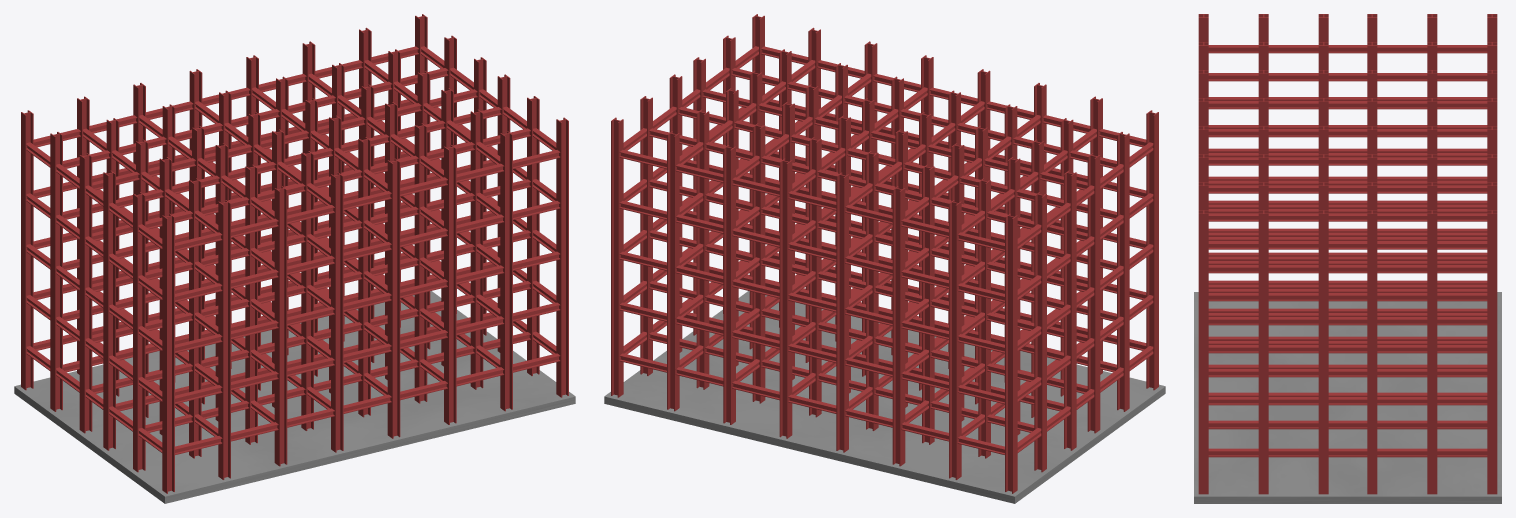
File: Construction building2.fbx
3 renders of one model, left to right at view 1: azimuth 30°, elevation 25°; view 2: azimuth 150°, elevation 25°; view 3: azimuth 270°, elevation 25°, orthographic.
Visible parts, largest first — view 1: Box017, Box016, Box015, Box014; view 2: Box017, Box016, Box015, Box014; view 3: Box015, Box014, Box017.
Boxes of the visible parts, <box> form: Box017: <box>21,14,568,493</box>; Box016: <box>33,46,560,454</box>; Box015: <box>26,46,556,452</box>; Box014: <box>14,291,575,503</box>; Box017: <box>611,14,1158,493</box>; Box016: <box>619,46,1146,454</box>; Box015: <box>623,46,1153,452</box>; Box014: <box>604,291,1165,503</box>; Box015: <box>1208,45,1487,457</box>; Box014: <box>1194,292,1501,503</box>; Box017: <box>1198,14,1497,494</box>.
Size of the model in its own units: 6515 by 4276 by 4144.
